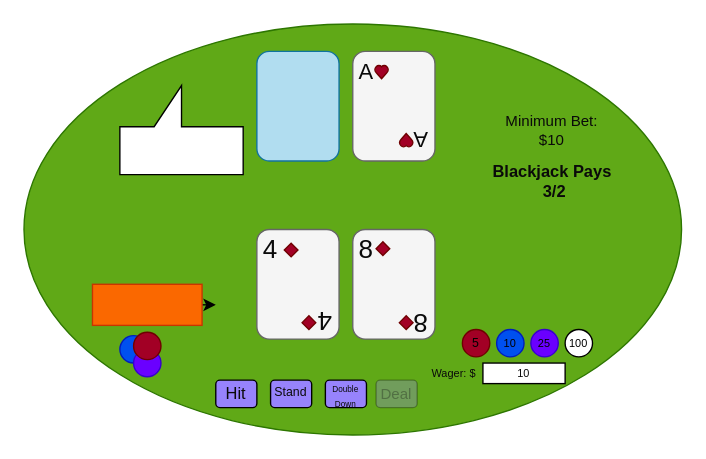
Image size: 706x459. Some labels were removed from this diagram. The shapes that lost their labels are listed below. From the top down, each one's centre as x and y in pixels, then its label:
At [181,129]: "Dealer: It's Your turn. What would you like to do?".
At [146,304]: "Bank: $100".
